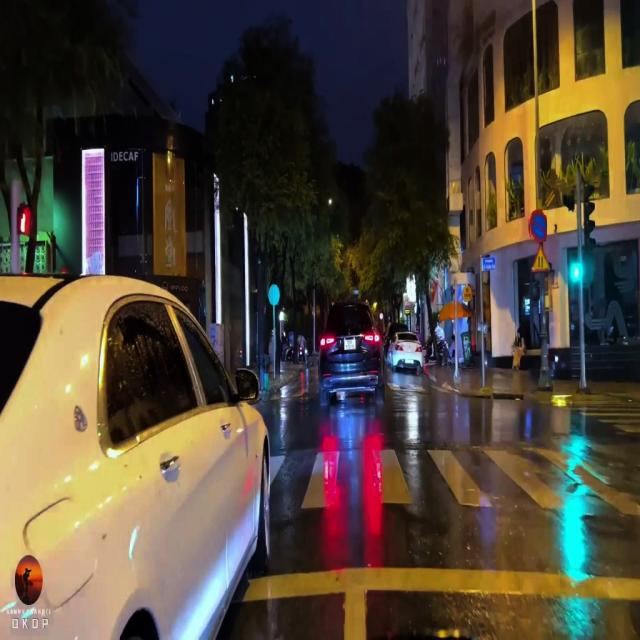cam_do_xe: (528, 210, 547, 242)
khac: (531, 244, 550, 272)
